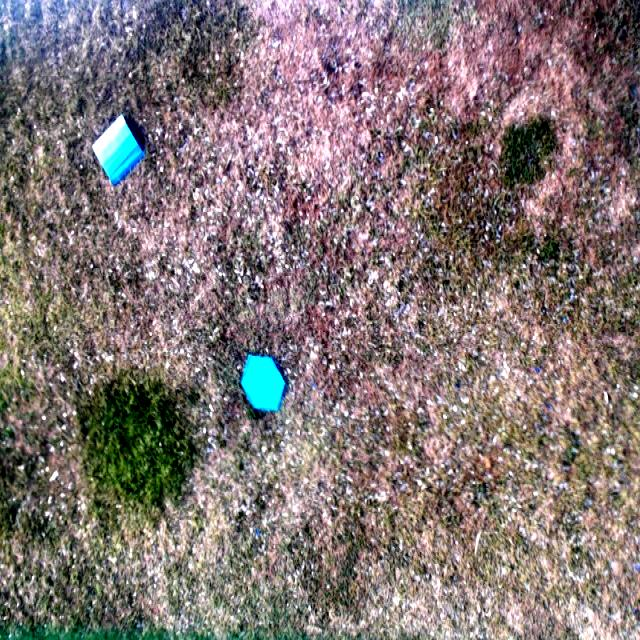blue_hexagon: (240, 354, 287, 416)
blue_square: (92, 114, 147, 187)
